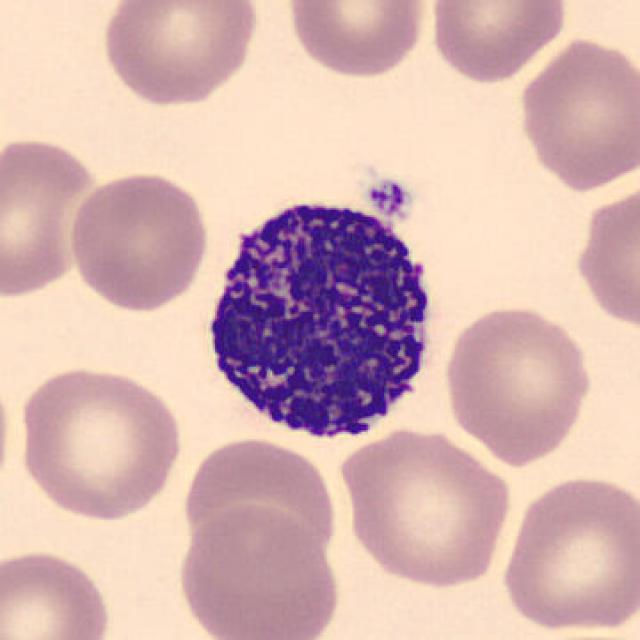Basophil: (192, 178, 450, 457)
RBC: (334, 423, 516, 591), (14, 360, 187, 524), (439, 300, 596, 465), (169, 500, 345, 640), (498, 469, 638, 635), (178, 432, 343, 571), (64, 167, 213, 314), (514, 33, 638, 194), (96, 0, 263, 111), (0, 132, 103, 302), (425, 0, 572, 85), (283, 0, 430, 81), (0, 543, 116, 640), (573, 187, 640, 336), (0, 361, 14, 513)
